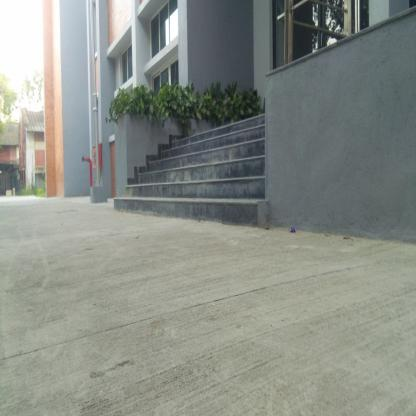stairs: (177, 141, 262, 226)
